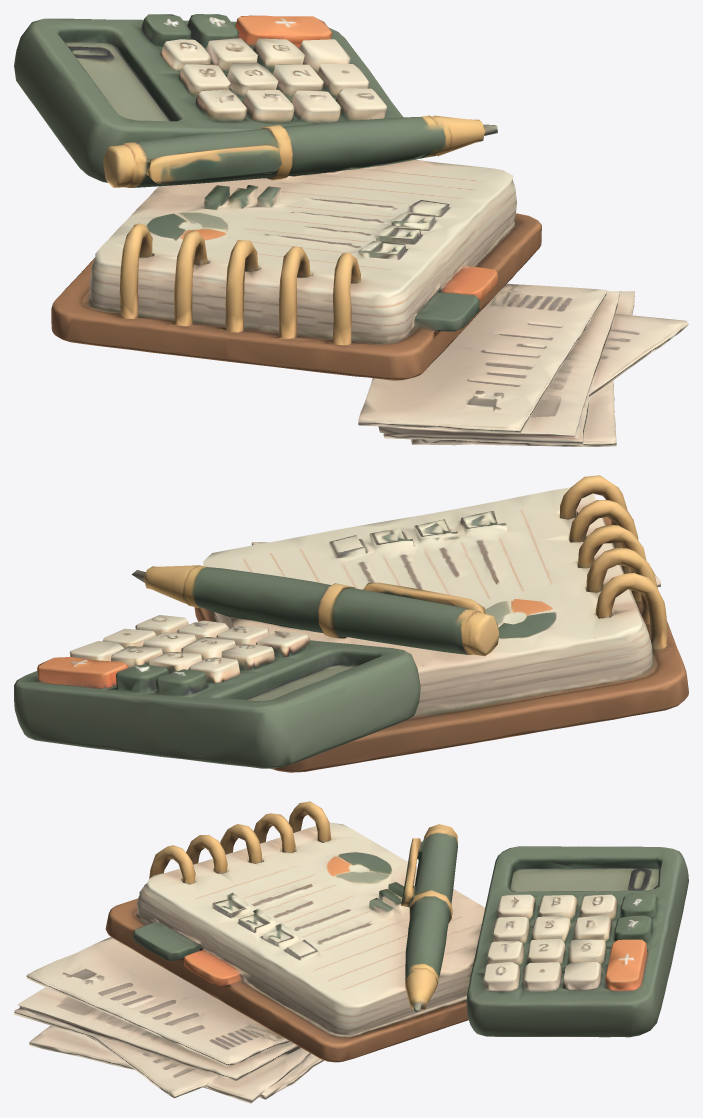
The model's file is finance-stationery.glb.
The picture shows the model from 3 angles, top to bottom: view 1: azimuth 30°, elevation 25°; view 2: azimuth 150°, elevation 25°; view 3: azimuth 270°, elevation 25°; orthographic projection. The views are drawn at different scales.
Visible parts, largest first — view 1: tripo_node_b59e82fa-7dc7-4089-86aa-22dda6286f5b; view 2: tripo_node_b59e82fa-7dc7-4089-86aa-22dda6286f5b; view 3: tripo_node_b59e82fa-7dc7-4089-86aa-22dda6286f5b.
Boxes of the visible parts, box(x1,y1,x2,y2) form: tripo_node_b59e82fa-7dc7-4089-86aa-22dda6286f5b: box(14, 14, 688, 446); tripo_node_b59e82fa-7dc7-4089-86aa-22dda6286f5b: box(14, 475, 688, 772); tripo_node_b59e82fa-7dc7-4089-86aa-22dda6286f5b: box(14, 801, 688, 1103).
Bounding box in the file's own units: 0.718 × 0.2156 × 1.
1 material, 1 textured.
